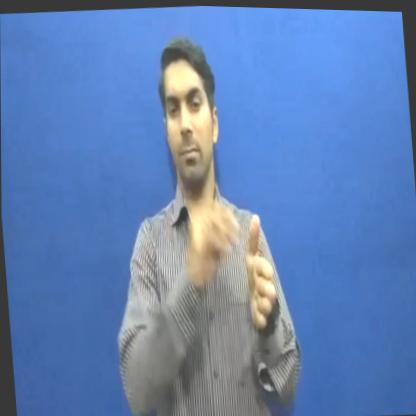Expensive: (148, 178, 297, 377)
